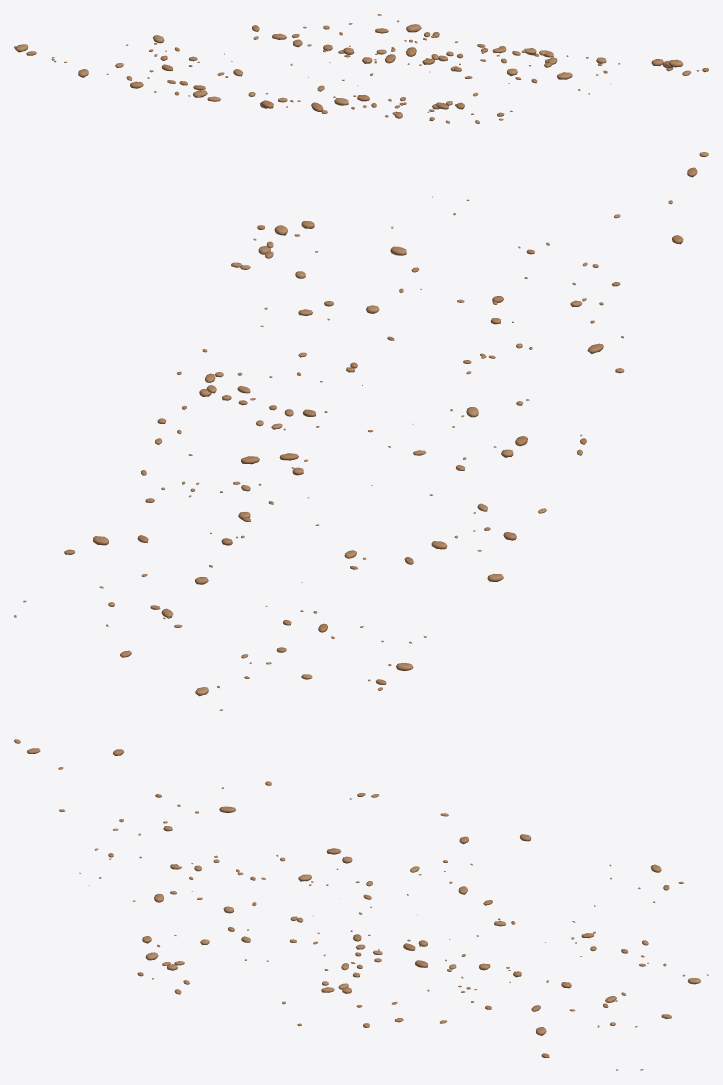
The model's file is terrain-112.glb.
The picture shows the model from 3 angles, top to bottom: view 1: azimuth 30°, elevation 25°; view 2: azimuth 150°, elevation 25°; view 3: azimuth 270°, elevation 25°; orthographic projection. The views are drawn at different scales.
Parts seen in each view (by area): view 1: terrain-112; view 2: terrain-112; view 3: terrain-112.
Part boxes in pixels (box(x1,y1,x2,y2)): terrain-112: box(14, 14, 708, 123); terrain-112: box(14, 152, 708, 710); terrain-112: box(14, 739, 708, 1070).
Bounding box in the file's own units: 44.64 × 22.98 × 68.25.
